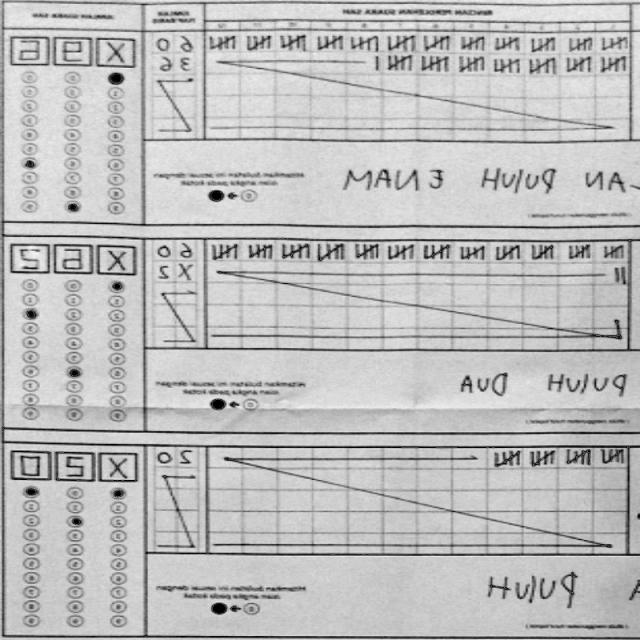Suara: (5, 445, 143, 482), (4, 240, 144, 270), (4, 37, 138, 67)
